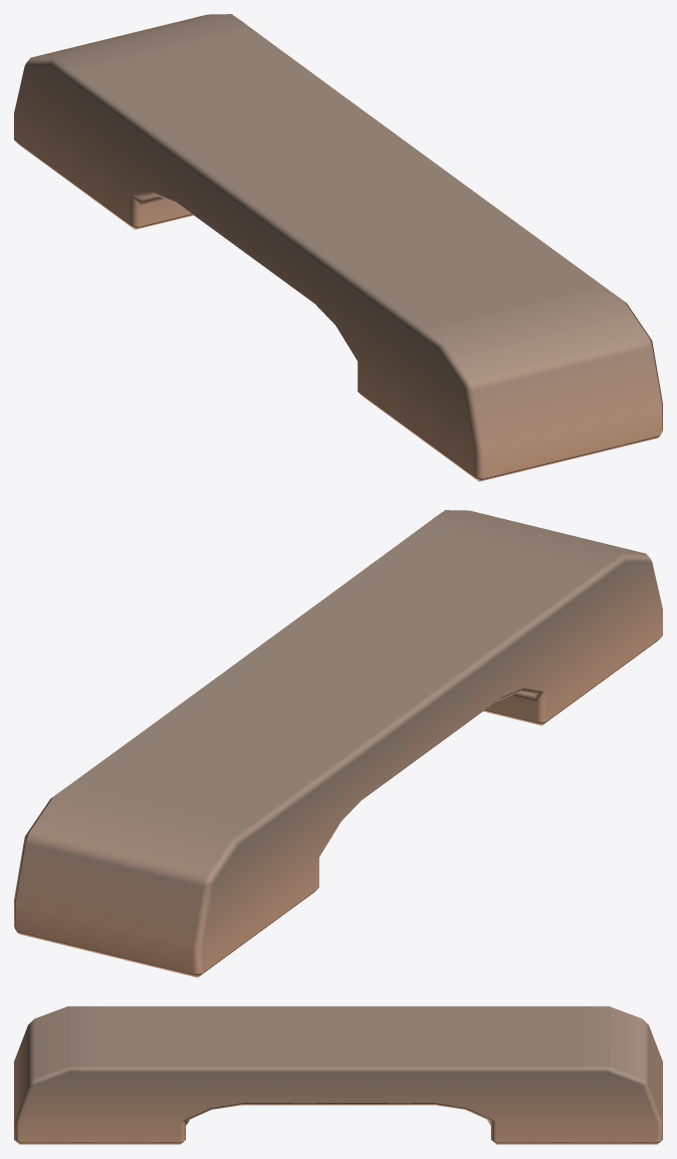
The model's file is SM_Phone_Handset.fbx.
3 renders of one model, top to bottom at view 1: azimuth 30°, elevation 25°; view 2: azimuth 150°, elevation 25°; view 3: azimuth 270°, elevation 25°, orthographic. The views are drawn at different scales.
Parts seen in each view (by area): view 1: Phone_Handset; view 2: Phone_Handset; view 3: Phone_Handset.
Part boxes in pixels (x1,y1,x2,y2): Phone_Handset: (14,14,662,481); Phone_Handset: (14,510,662,977); Phone_Handset: (14,1006,662,1144).
Size of the model in its own units: 70 by 40 by 300.
